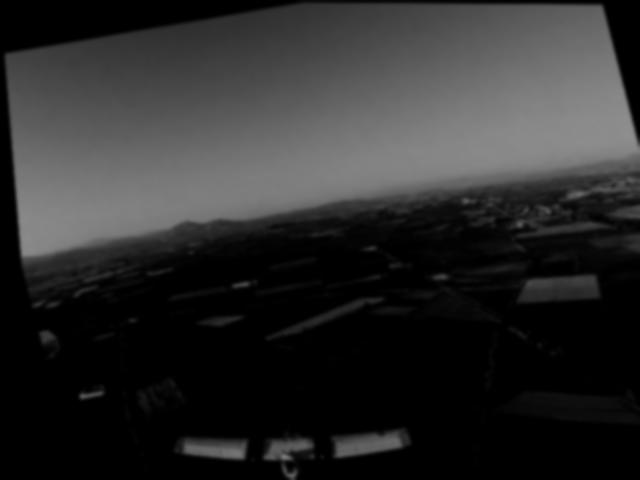hedef: (153, 385, 415, 480)
